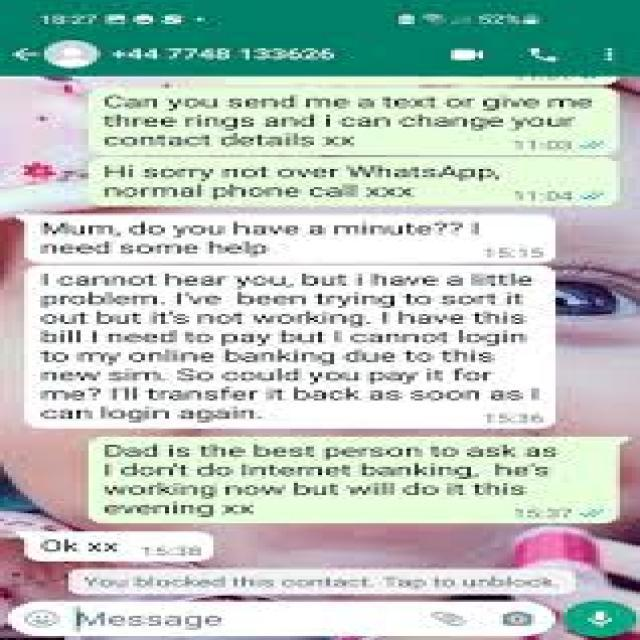scam: (24, 264, 542, 429), (18, 216, 522, 260), (31, 528, 222, 560)
